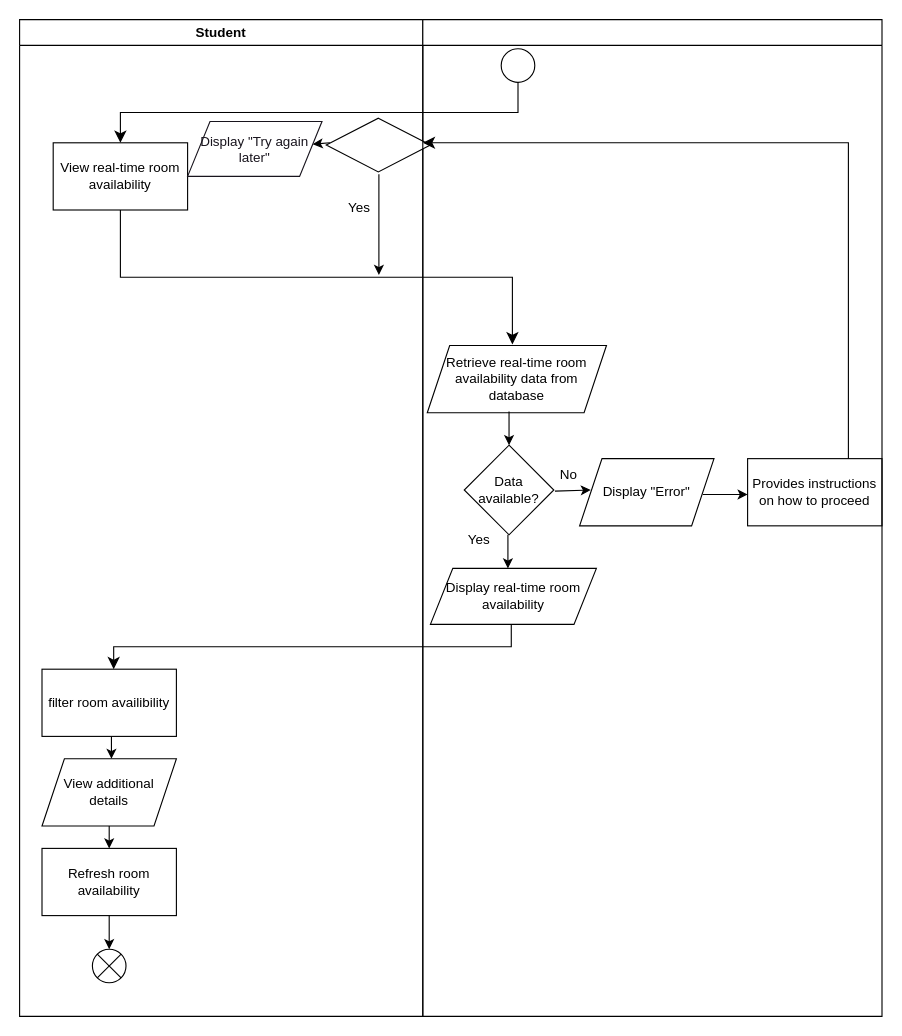
Image size: 902x1036. Some labels were removed from this diagram. The shapes that lost their labels are listed below. From the top down, each one's centre as x and y in pixels, then its label:
At point (377, 144): "if refresh".
At point (652, 517): "System".
